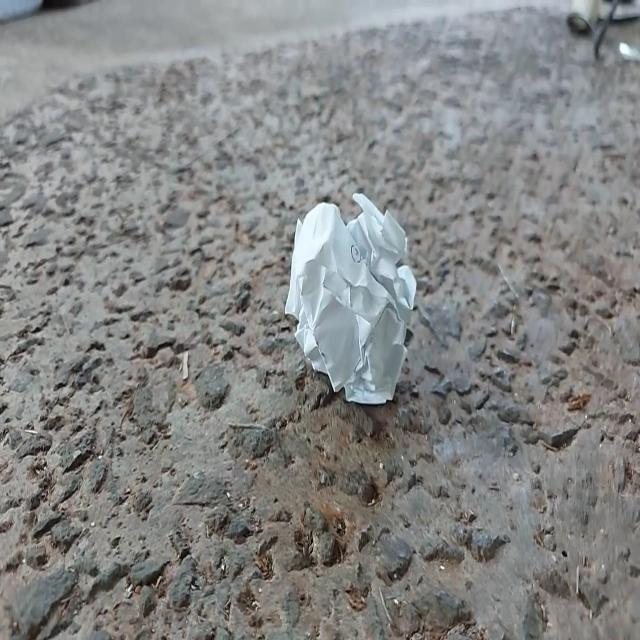Paper: (281, 180, 426, 421)
